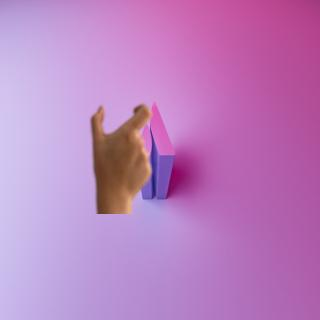HATE: (82, 95, 164, 209)
